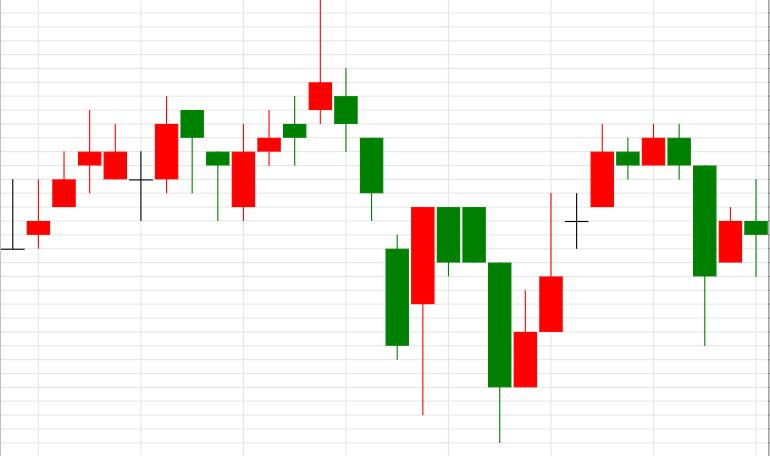shooting_star_fall: (206, 0, 332, 222)
